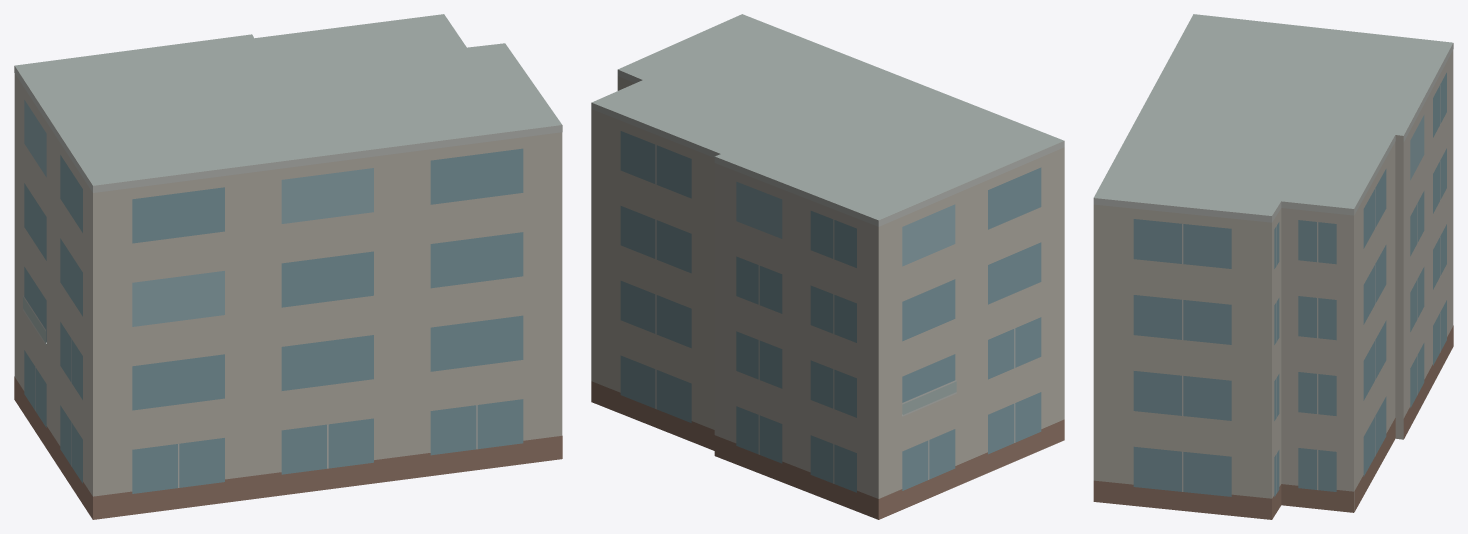
Rendered from survey-upis-32874217.glb.
3 views of the same model, side by side, from view 1: azimuth 30°, elevation 25°; view 2: azimuth 150°, elevation 25°; view 3: azimuth 270°, elevation 25° (orthographic). The views are drawn at different scales.
Visible parts, largest first — view 1: survey-upis-32874217.tmp; view 2: survey-upis-32874217.tmp; view 3: survey-upis-32874217.tmp.
Part boxes in pixels (left/top/right/bottom): survey-upis-32874217.tmp: left=14, top=14, right=562, bottom=519; survey-upis-32874217.tmp: left=591, top=14, right=1064, bottom=519; survey-upis-32874217.tmp: left=1093, top=14, right=1453, bottom=519.
Bounding box in the file's own units: 16.13 × 11.3 × 12.14.
